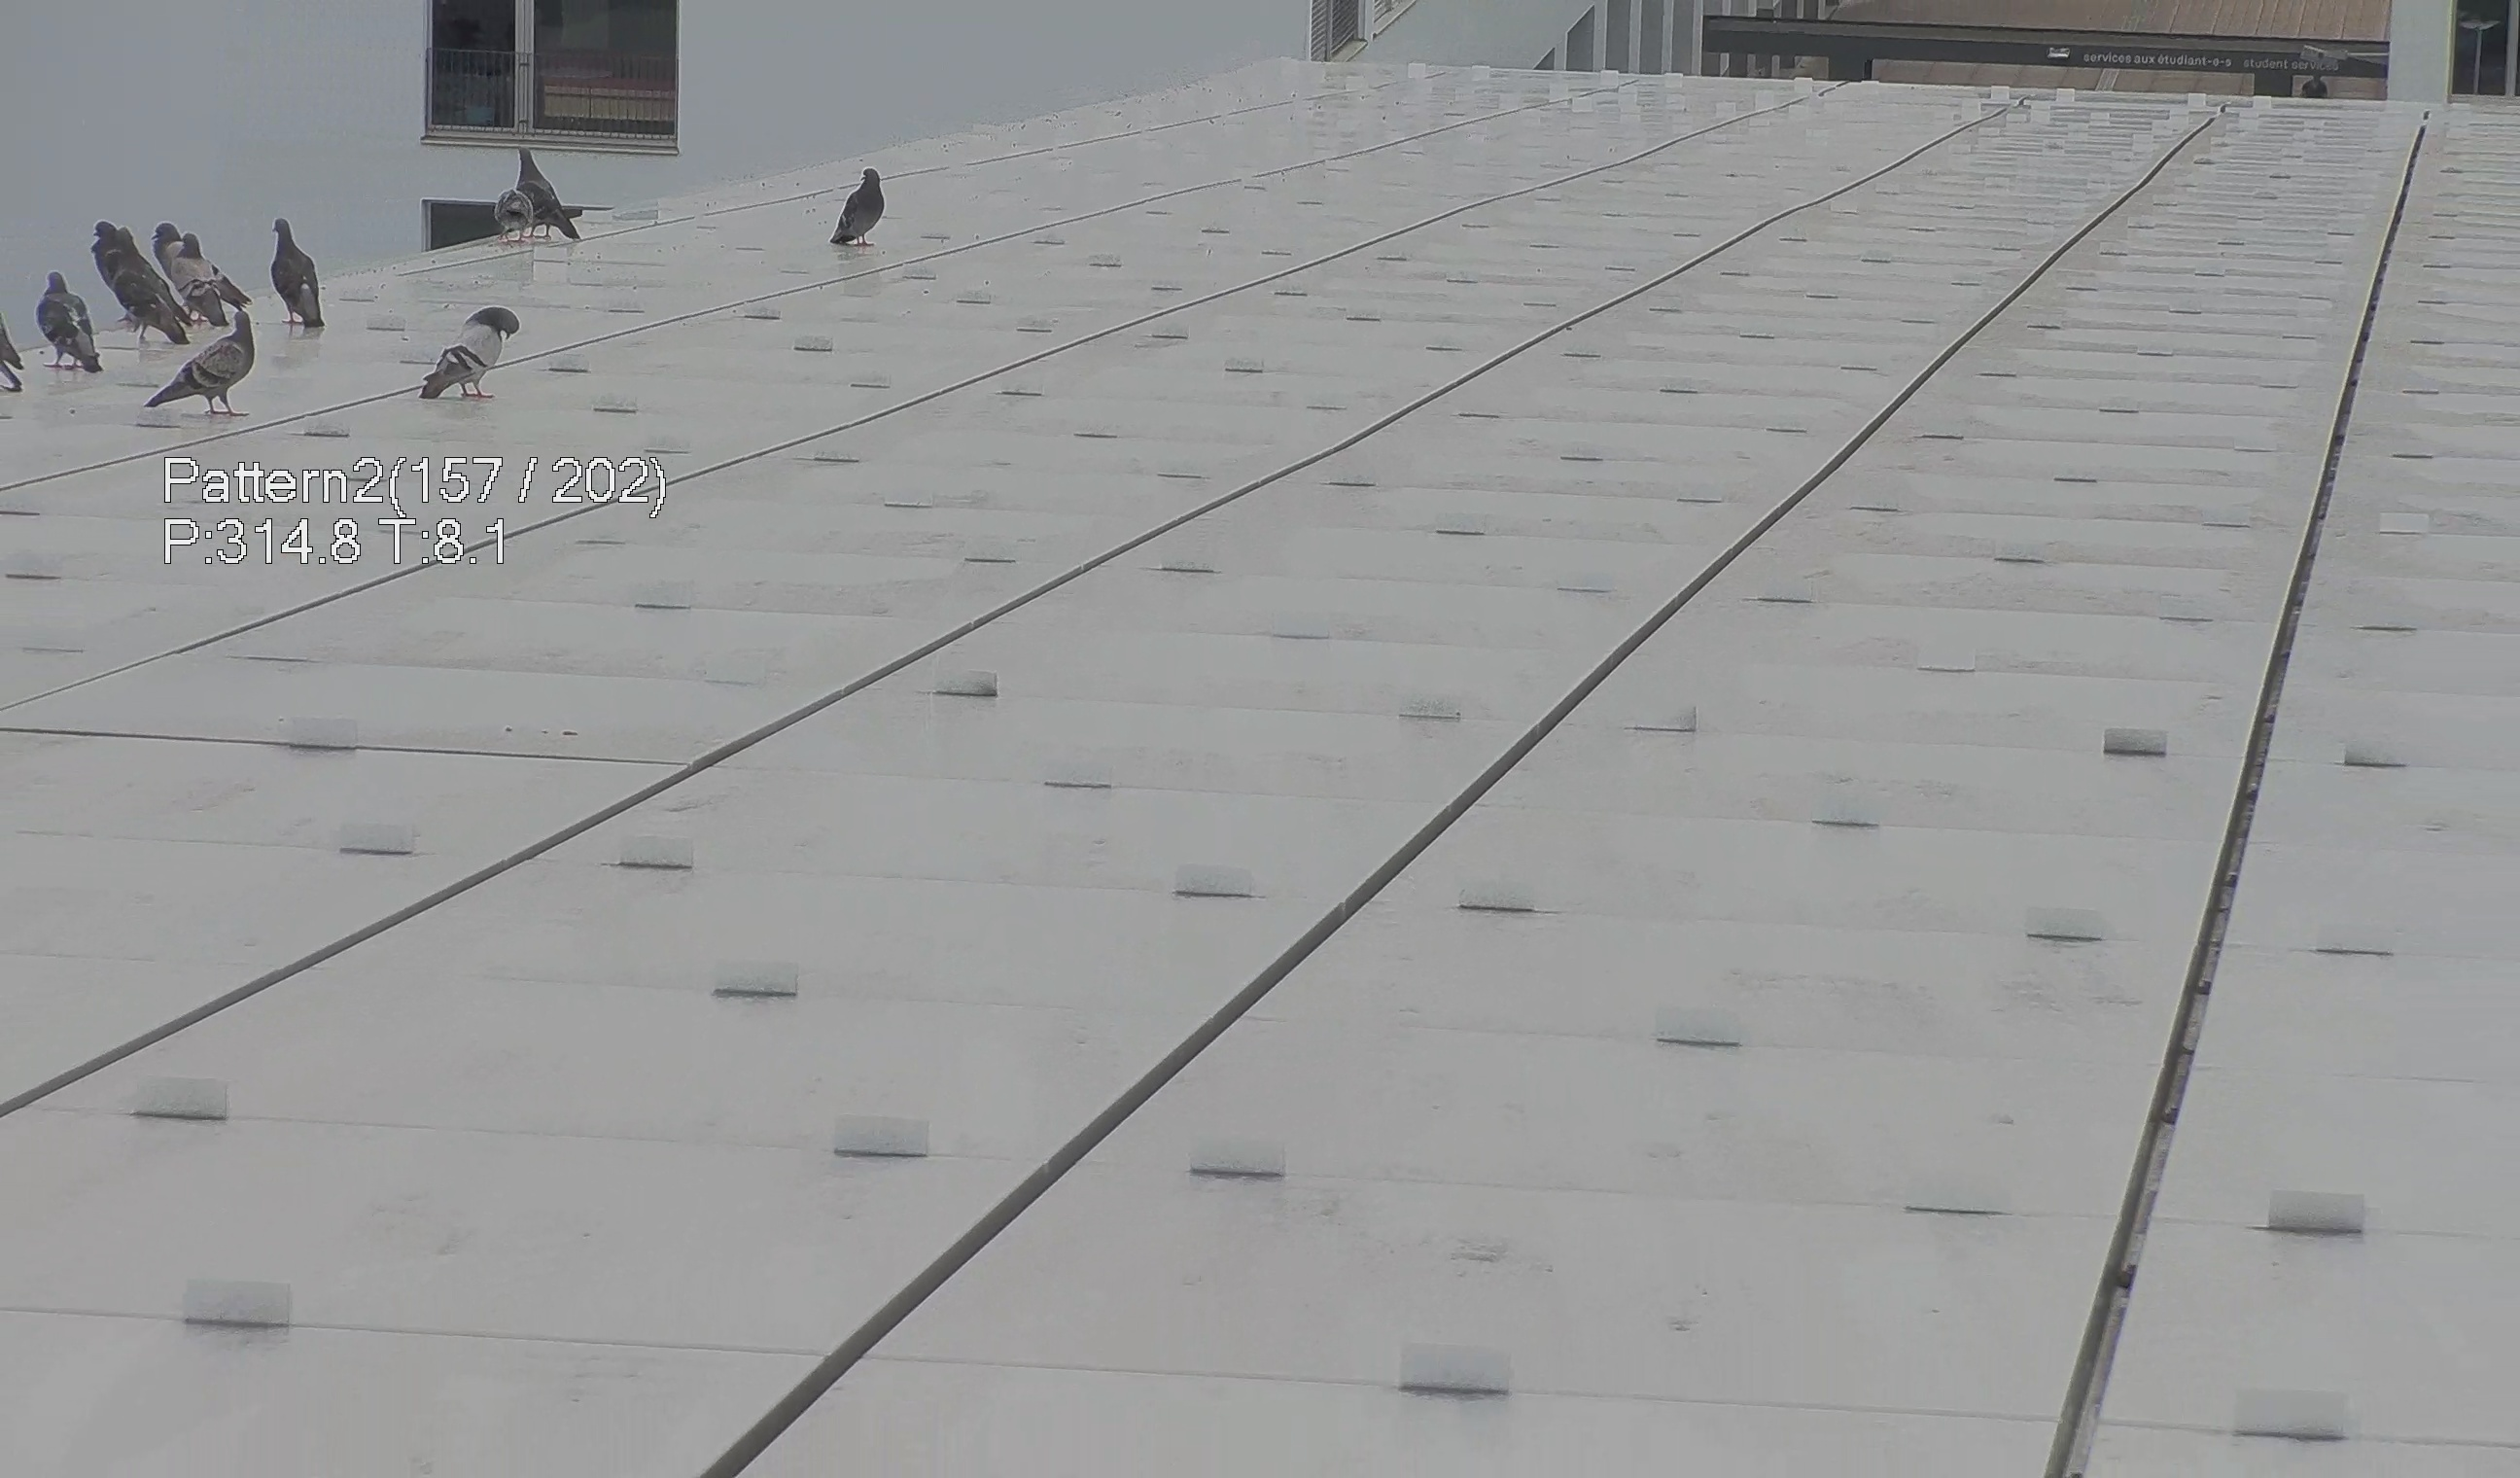Pigeon: (88, 206, 230, 340), (146, 269, 262, 424), (394, 290, 508, 410), (84, 216, 181, 340), (14, 262, 97, 380), (251, 206, 315, 336), (510, 144, 587, 246), (162, 225, 225, 347), (819, 157, 881, 246), (489, 187, 543, 248)
